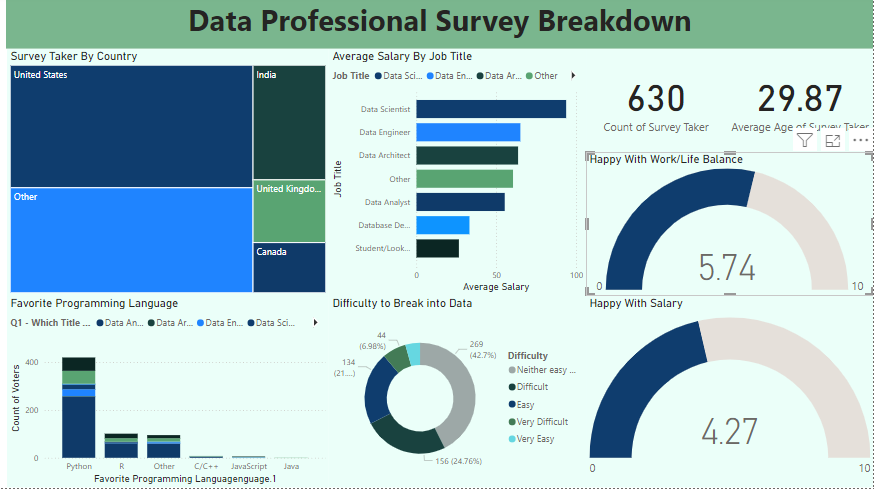

The dashboard page shown, as its layout file describes it:
{"tool":"powerbi","page":{"name":"Page 1","canvas":[1280,720],"ordinal":0},"visuals":[{"type":"textbox","box":[10.1,0,1269.9,77.3],"z":0},{"type":"card","fields":{"Values":["CountNonNull(Data Professional Survey.Unique ID)"]},"box":[858.4,77.3,204.9,151.2],"z":1000},{"type":"card","fields":{"Values":["Avg(Data Professional Survey.Q10 - Current Age)"]},"box":[1063.3,77.3,216.7,151.2],"z":2000},{"type":"barChart","title":"Average Salary By Job Title","fields":{"Category":["Data Professional Survey.Q1 - Which Title Best Fits your Current Role?.1"],"Series":["Data Professional Survey.Q1 - Which Title Best Fits your Current Role?.1"],"Y":["Avg(Data Professional Survey.Average Salary)"]},"box":[482.3,77.9,376.6,361.7],"z":3000},{"type":"columnChart","title":"Favorite Programming Language","fields":{"Category":["Data Professional Survey.Q5 - Favorite Programming Language.1"],"Y":["CountNonNull(Data Professional Survey.Unique ID)"],"Series":["Data Professional Survey.Q1 - Which Title Best Fits your Current Role?.1"]},"box":[11.1,439.7,471.2,280.1],"z":4000},{"type":"treemap","title":"Survey Taker By Country","fields":{"Group":["Data Professional Survey.Q11 - Which Country do you live in?.1"],"Values":["CountNonNull(Data Professional Survey.Q11 - Which Country do you live in?.1)"]},"box":[11.1,77.9,471.2,361.7],"z":5000},{"type":"gauge","title":"Happy With Work/Life Balance","fields":{"Y":["Avg(Data Professional Survey.Q6 - How Happy are you in your Current Position with the following? (Work/Life Balance))"],"MinValue":["Min(Data Professional Survey.Q6 - How Happy are you in your Current Position with the following? (Work/Life Balance))"],"MaxValue":["Max(Data Professional Survey.Q6 - How Happy are you in your Current Position with the following? (Work/Life Balance))1"]},"box":[858.9,228.2,421.1,211.5],"z":6000},{"type":"gauge","title":"Happy With Salary","fields":{"Y":["Avg(Data Professional Survey.Q6 - How Happy are you in your Current Position with the following? (Salary))"],"MinValue":["Min(Data Professional Survey.Q6 - How Happy are you in your Current Position with the following? (Salary))"],"MaxValue":["Max(Data Professional Survey.Q6 - How Happy are you in your Current Position with the following? (Salary))"]},"box":[858.9,439.7,421.1,280.1],"z":7000},{"type":"donutChart","title":"Difficulty to Break into Data","fields":{"Category":["Data Professional Survey.Q7 - How difficult was it for you to break into Data?"],"Y":["CountNonNull(Data Professional Survey.Q7 - How difficult was it for you to break into Data?)"]},"box":[482.3,439.7,376.6,280.1],"z":8000}]}

Visuals, with their boxes in screenshot pixels (x1, y1, x2, y2), scaled from the page's 1280x720 canvas onto the 874x489 screenshot:
textbox: (7, 0, 873, 52)
card - CountNonNull(Data Professional Survey.Unique ID): (586, 52, 726, 155)
card - Avg(Data Professional Survey.Q10 - Current Age): (726, 52, 873, 155)
"Average Salary By Job Title" barChart: (329, 53, 586, 299)
"Favorite Programming Language" columnChart: (8, 299, 329, 488)
"Survey Taker By Country" treemap: (8, 53, 329, 299)
"Happy With Work/Life Balance" gauge: (586, 155, 873, 299)
"Happy With Salary" gauge: (586, 299, 873, 488)
"Difficulty to Break into Data" donutChart: (329, 299, 586, 488)
